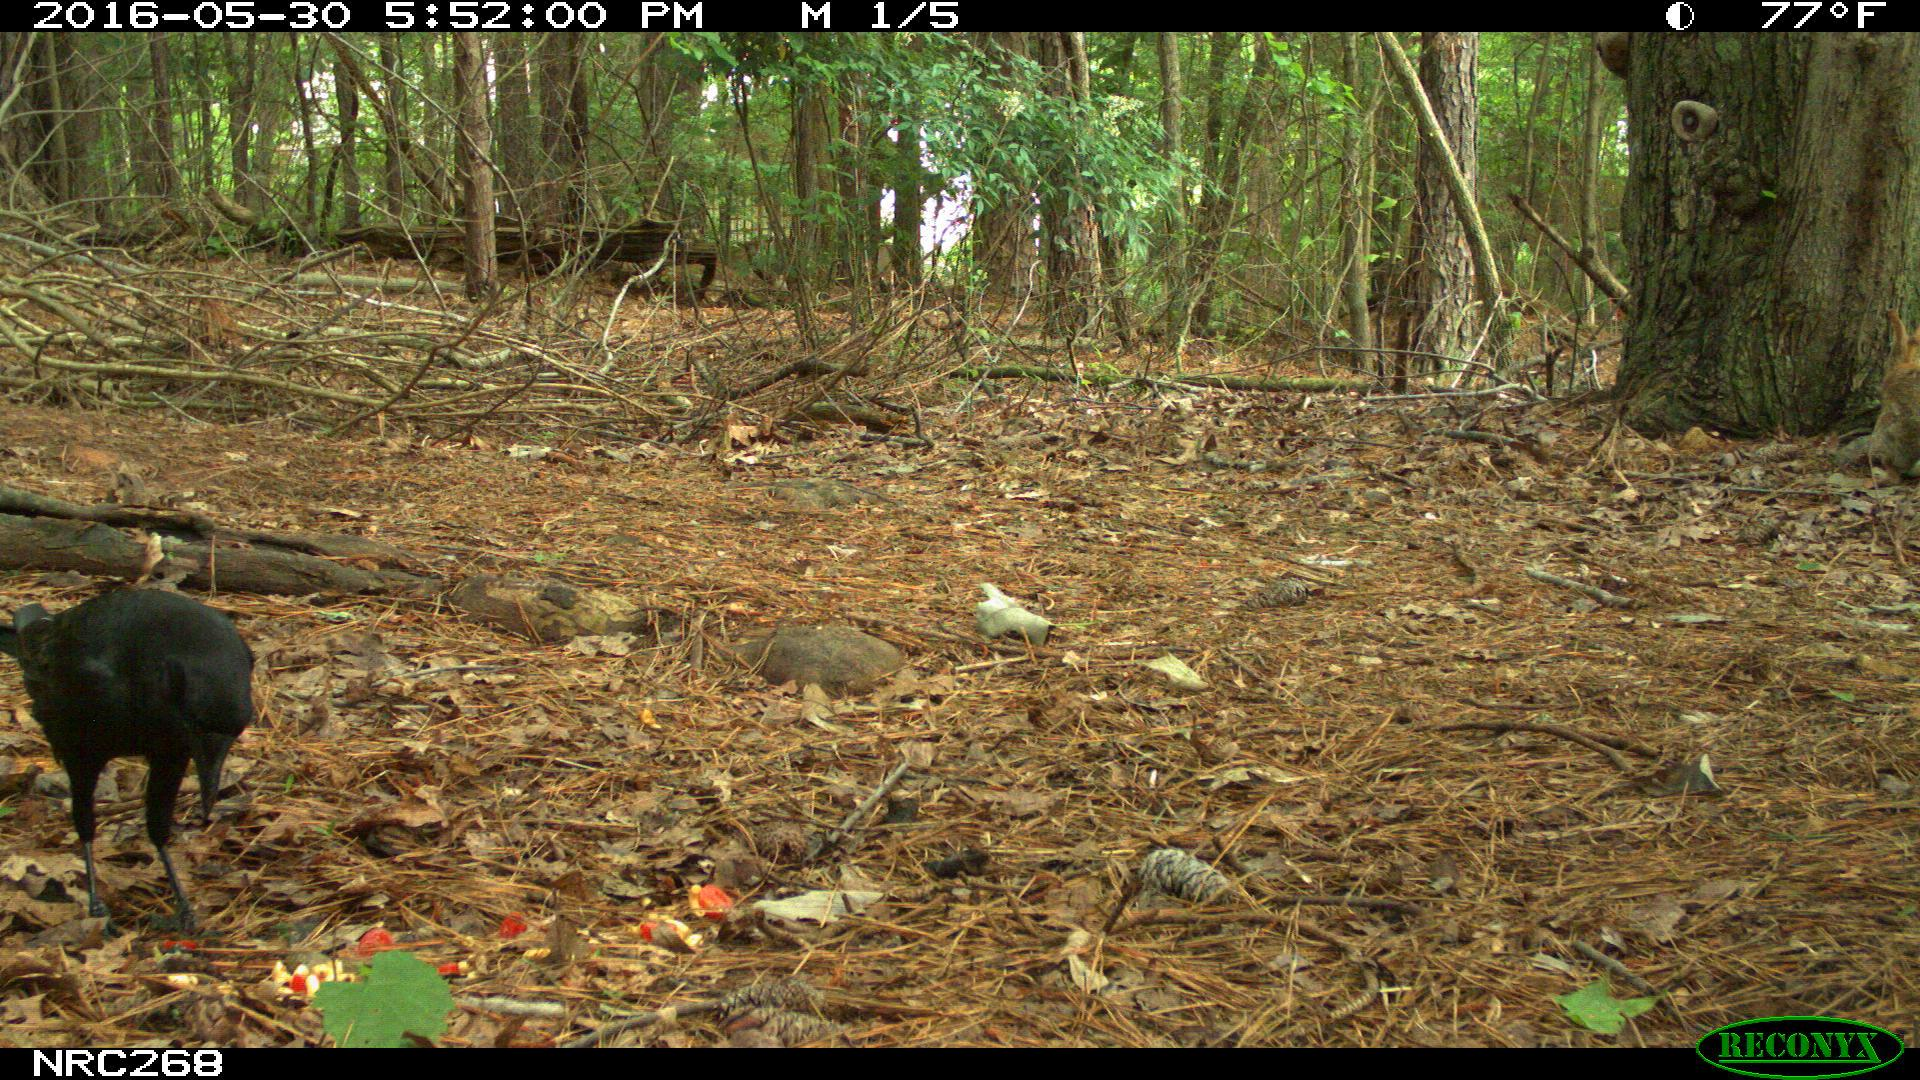Animal: (3, 585, 253, 947)
